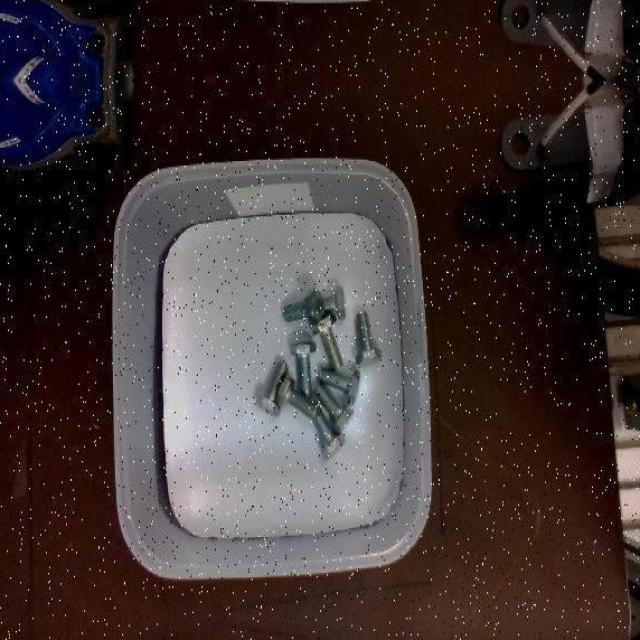screw: (313, 384, 355, 434), (275, 376, 319, 421), (255, 359, 289, 416), (311, 314, 344, 372), (319, 366, 360, 403), (283, 288, 325, 324), (356, 310, 382, 365)
